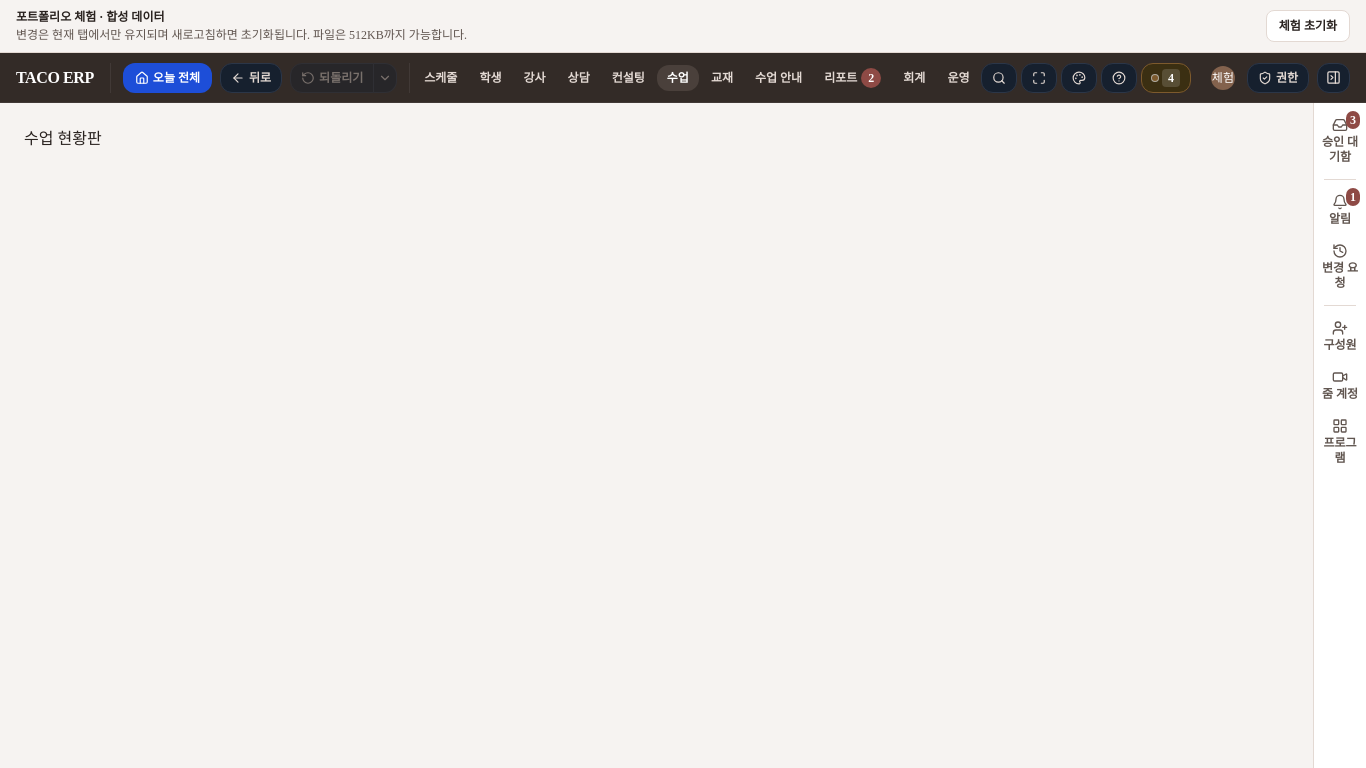
원본 관리자 공용 셸 › 전체 화면 실패를 성공 표시하지 않는다
Click the button named "전체 화면". click: (1039, 78)
box: [1021,62,1057,92]
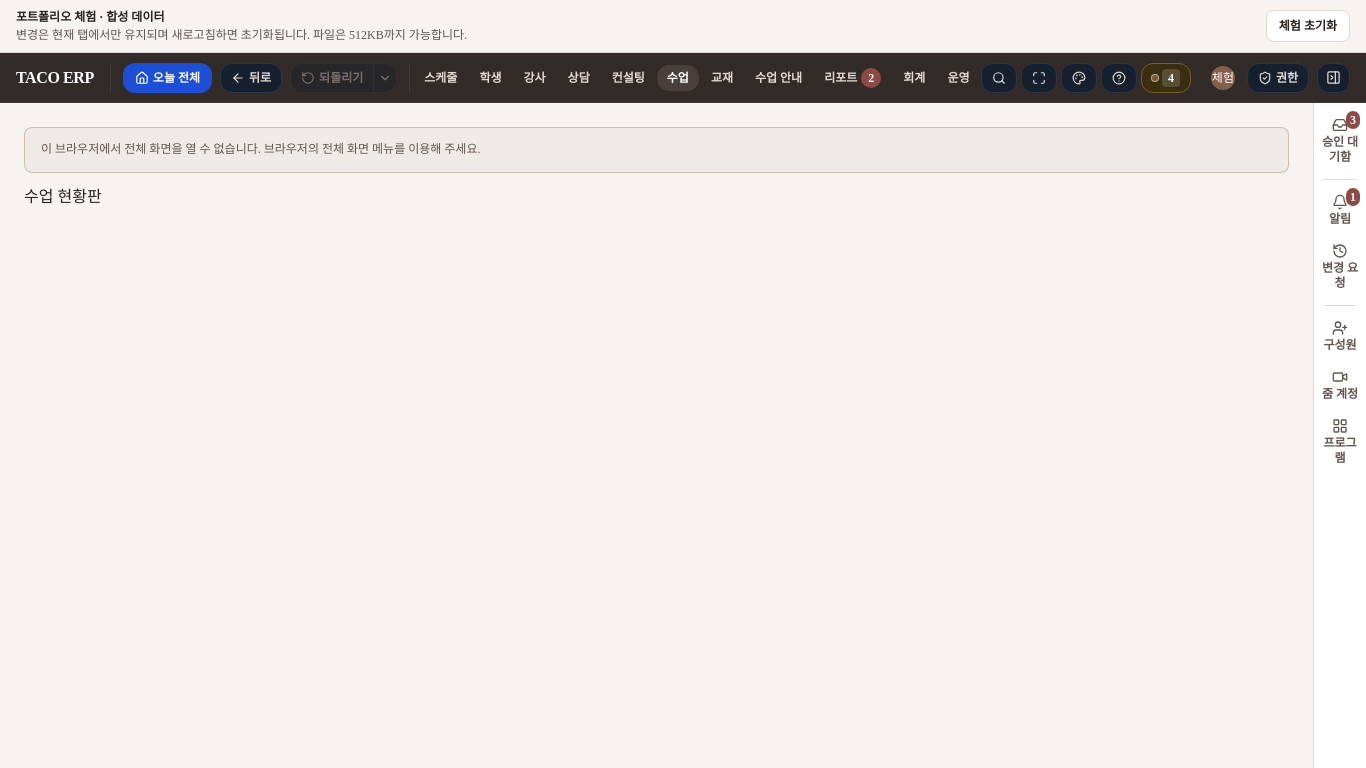
Expected: the text "이 브라우저에서 전체 화면을 열 수 없습니다. 브라우저의 전체 화면 메뉴를 이용해 주세요." is shown, [24,127,1289,172]
